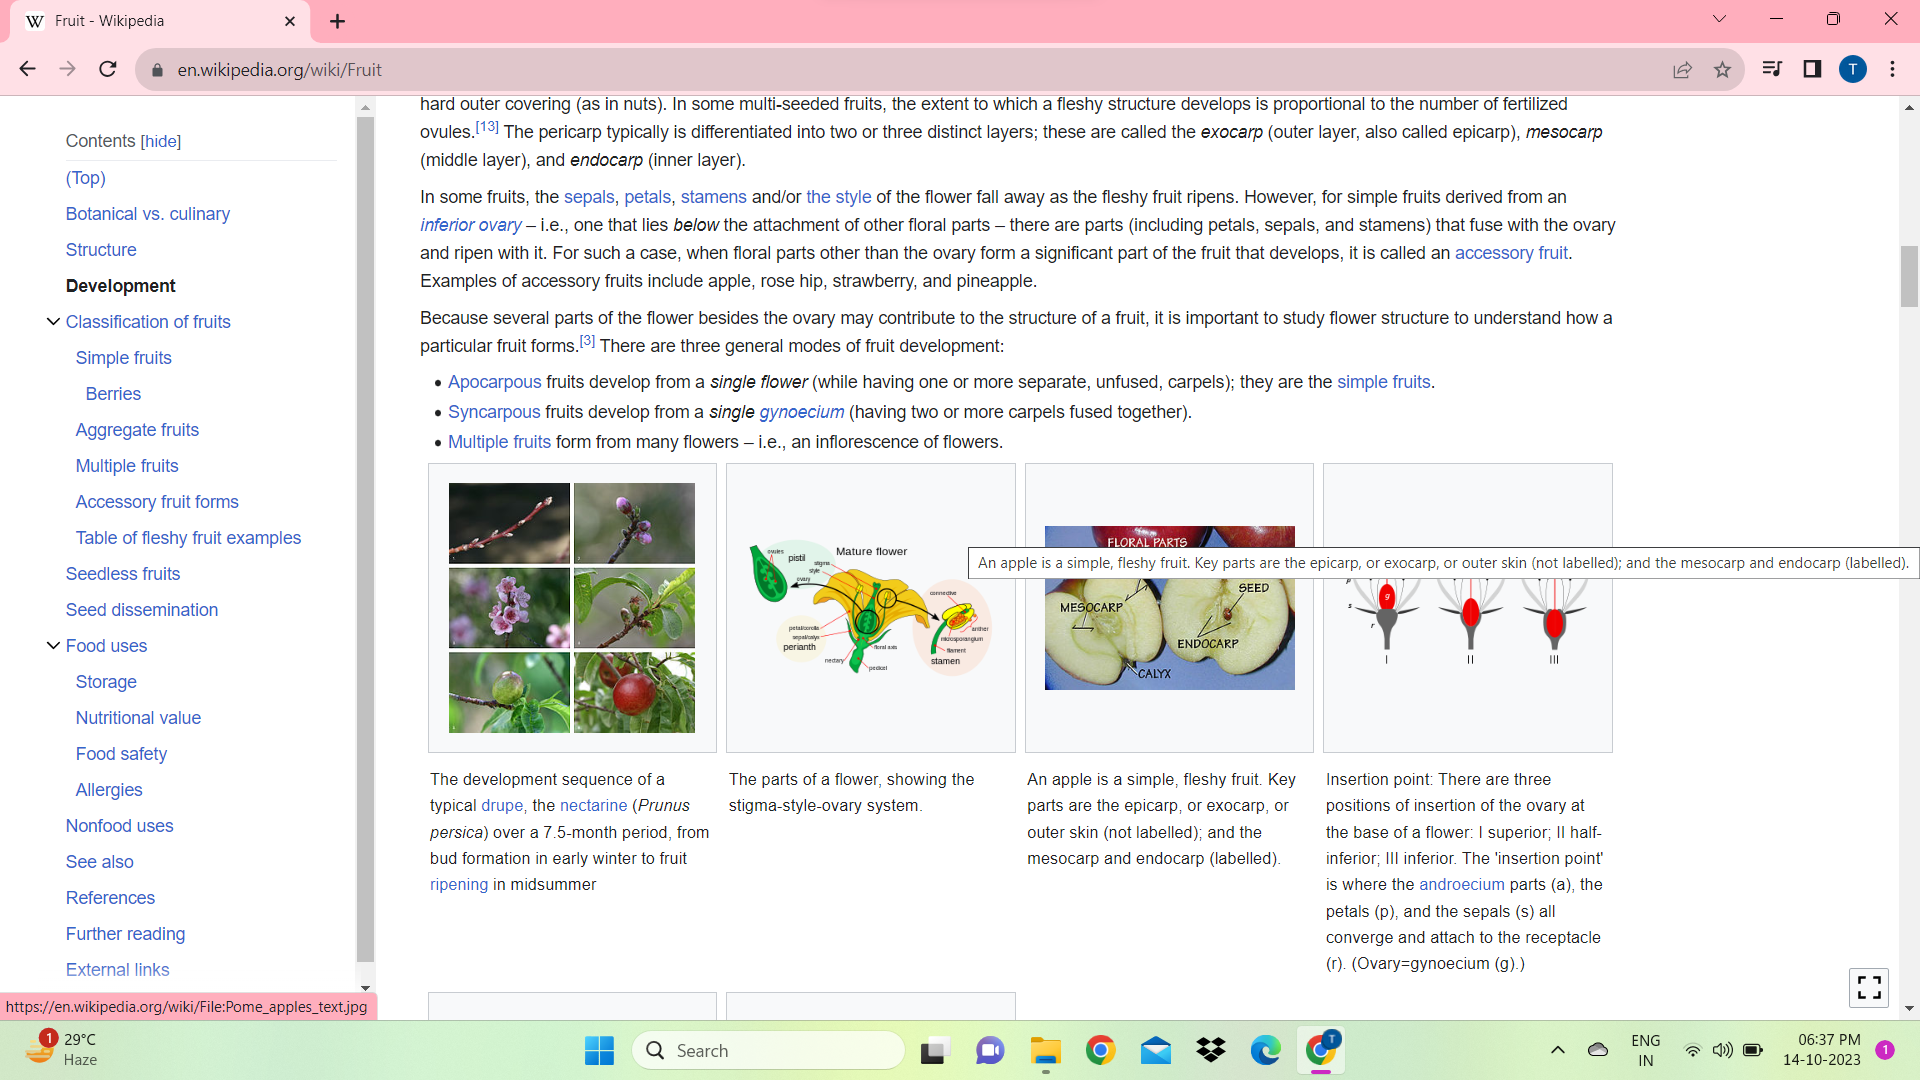Image: (434, 471, 708, 746), (1029, 505, 1307, 703), (719, 530, 993, 712), (1344, 535, 1604, 703)
Paragraph: (407, 183, 1631, 298), (411, 92, 1639, 177), (963, 496, 1920, 597), (438, 369, 1461, 454), (1316, 756, 1622, 993), (406, 302, 1646, 360), (425, 764, 712, 906), (1025, 767, 1300, 872), (727, 773, 975, 814), (57, 199, 248, 228), (61, 309, 240, 335), (74, 529, 309, 549), (51, 125, 214, 153), (67, 655, 156, 703), (69, 489, 240, 513), (58, 596, 223, 620), (58, 916, 190, 945), (58, 811, 179, 841), (71, 417, 211, 442), (57, 556, 187, 583), (71, 454, 196, 479), (61, 274, 187, 298), (65, 953, 179, 977), (58, 231, 146, 261), (69, 742, 181, 766), (67, 774, 153, 804), (69, 712, 214, 729), (74, 347, 179, 367), (61, 885, 156, 906), (57, 851, 140, 874), (61, 632, 156, 651), (57, 162, 112, 193), (75, 386, 153, 401)
